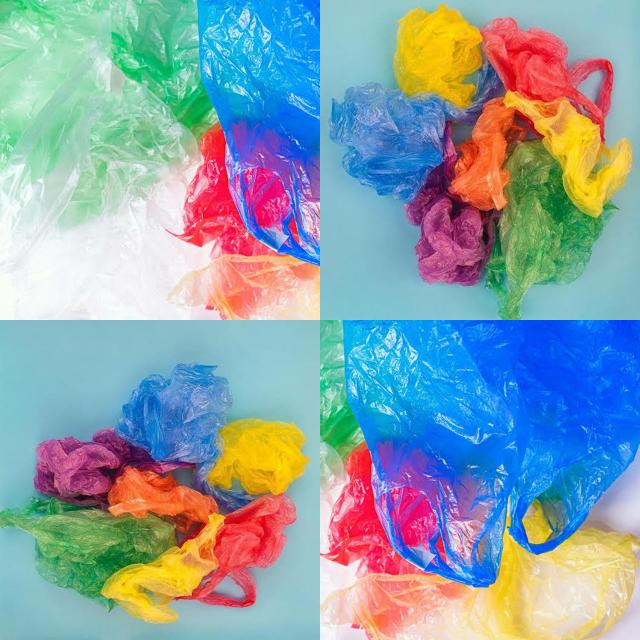Single-layer Plastic: (344, 321, 640, 588), (0, 0, 216, 318), (321, 529, 640, 640), (198, 0, 320, 264), (486, 140, 616, 319), (0, 499, 178, 610), (481, 18, 614, 139), (504, 91, 631, 217), (405, 124, 495, 286), (330, 82, 446, 202), (324, 442, 426, 578), (101, 512, 224, 624), (181, 494, 296, 607), (115, 364, 232, 463), (34, 429, 179, 506), (169, 255, 320, 320), (394, 5, 482, 109), (209, 419, 309, 495), (449, 98, 515, 211), (108, 466, 218, 532), (320, 320, 364, 460)
